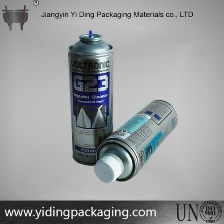aerosol_cans: (87, 94, 182, 186), (64, 27, 119, 168)
